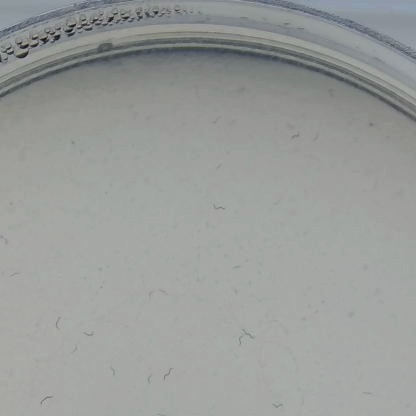worm: (145, 282, 176, 304), (234, 323, 258, 348), (34, 389, 57, 413), (266, 395, 301, 409), (2, 265, 30, 280), (51, 311, 71, 331), (160, 361, 179, 382), (141, 366, 160, 386), (287, 123, 306, 142), (209, 198, 232, 212), (99, 365, 120, 380), (154, 403, 176, 416), (360, 383, 379, 398), (0, 228, 15, 245), (82, 325, 101, 338)
